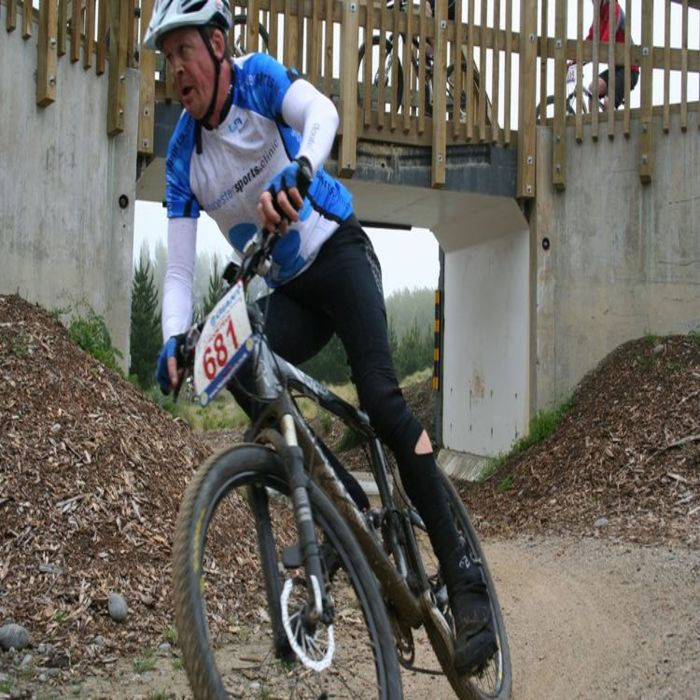n: (183, 317, 248, 387)
